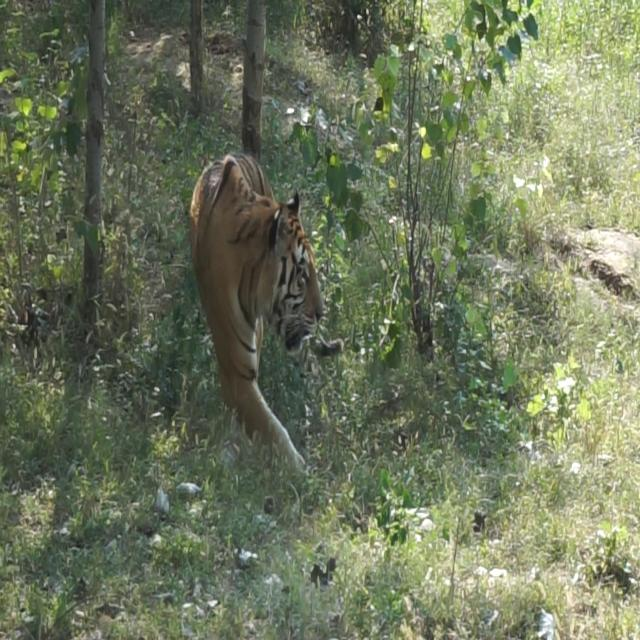Tiger: (178, 131, 376, 502)
